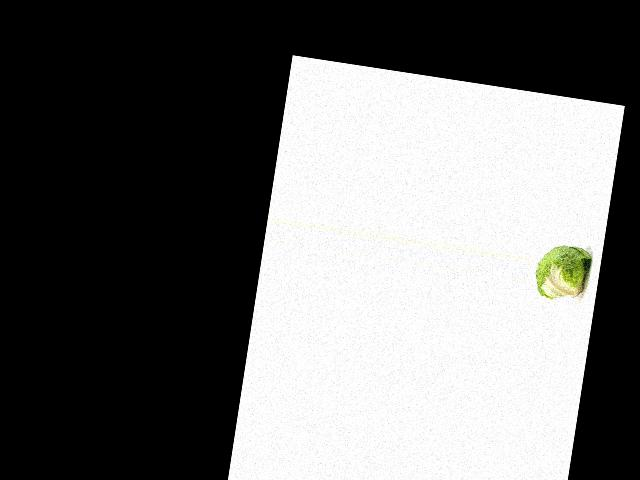lettuce: (532, 240, 595, 305)
